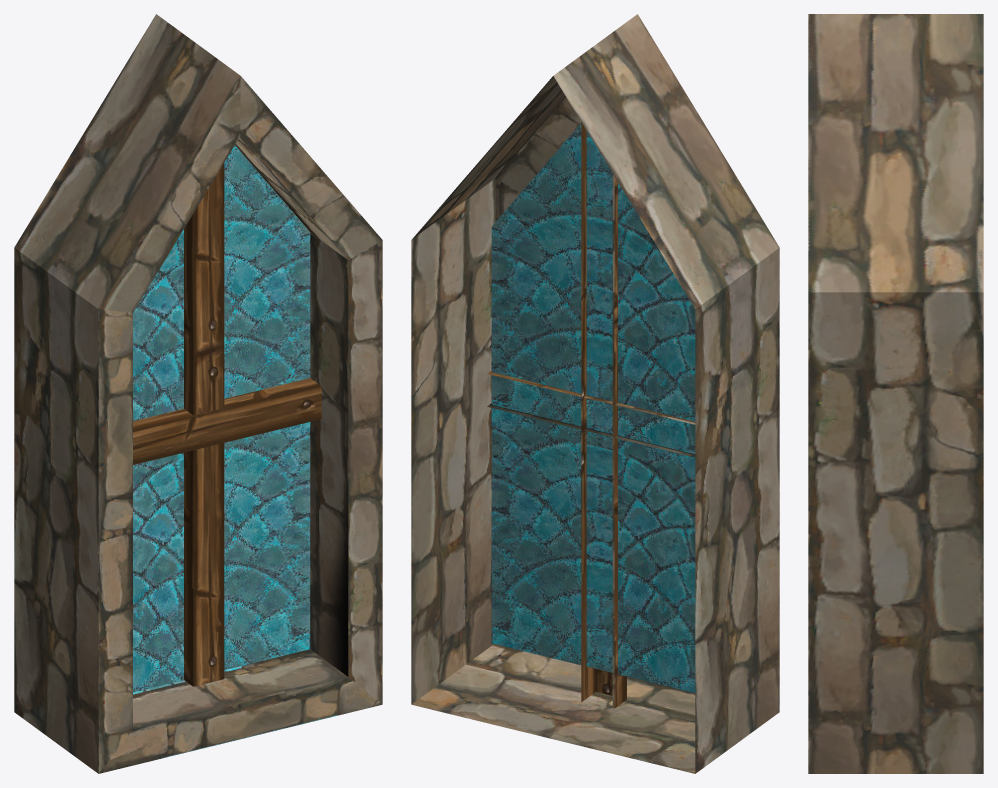
The model's file is cafedral_window.fbx.
The picture shows the model from 3 angles, left to right: view 1: azimuth 30°, elevation 25°; view 2: azimuth 150°, elevation 25°; view 3: azimuth 270°, elevation 25°; orthographic projection. The views are drawn at different scales.
Visible parts, largest first — view 1: Window; view 2: Window; view 3: Window.
Part boxes in pixels (x1,y1,x2,y2): Window: (14,14,382,773); Window: (411,14,779,773); Window: (808,14,983,773).
Bounding box in the file's own units: 48.15 × 107 × 24.78.
Materials: 1 (1 with a texture image).
